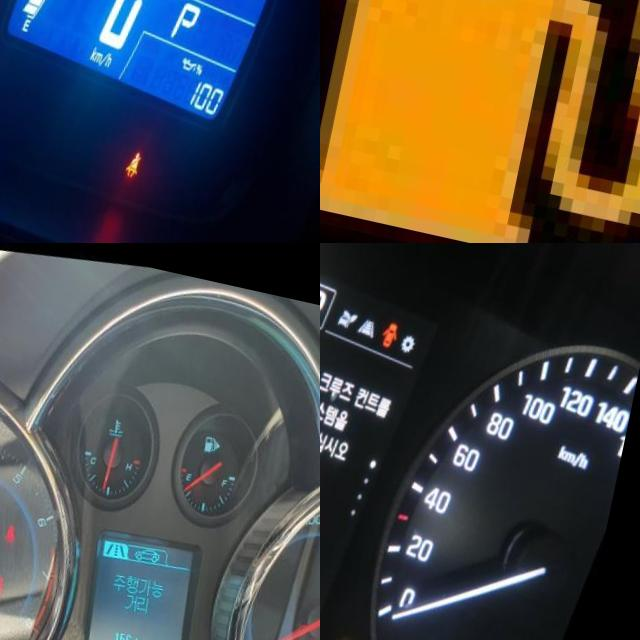Doors: (385, 300, 410, 333)
Low fuel level: (320, 0, 640, 242)
